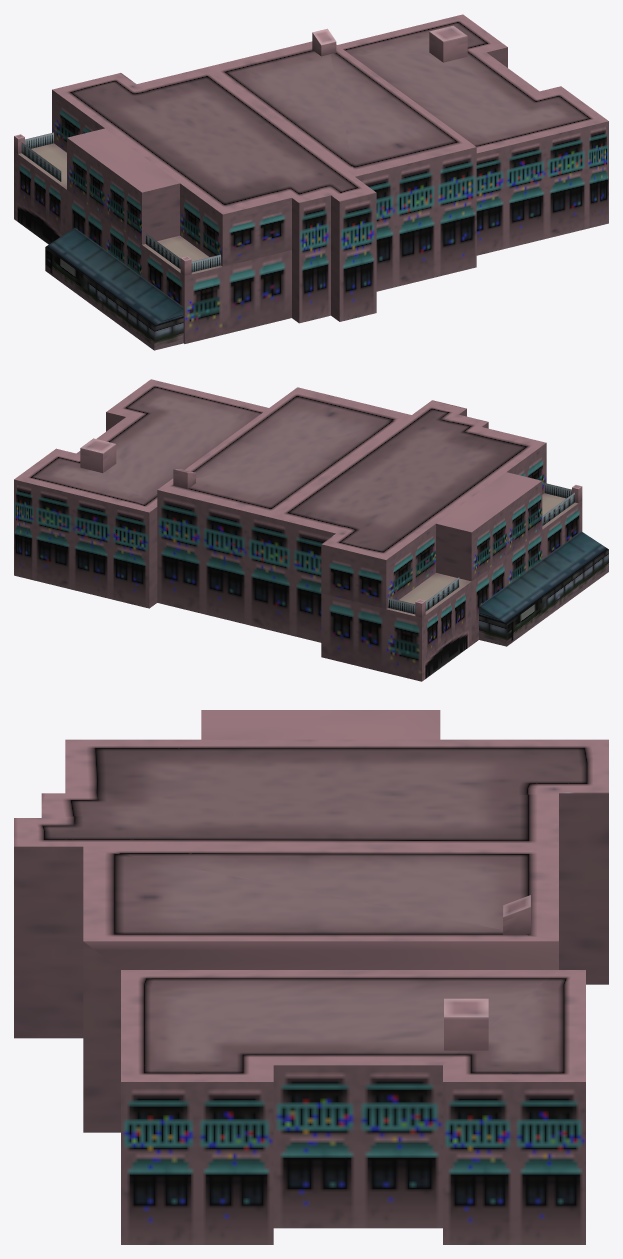
The model's file is ResidentialLowRise2.fbx.
The picture shows the model from 3 angles, top to bottom: view 1: azimuth 30°, elevation 25°; view 2: azimuth 150°, elevation 25°; view 3: azimuth 270°, elevation 25°; orthographic projection. The views are drawn at different scales.
Parts seen in each view (by area): view 1: ResidentialLowRise2; view 2: ResidentialLowRise2; view 3: ResidentialLowRise2.
Boxes of the visible parts, bbox=[...] form: ResidentialLowRise2: bbox=[14, 14, 608, 350]; ResidentialLowRise2: bbox=[14, 379, 608, 681]; ResidentialLowRise2: bbox=[14, 710, 608, 1244].
Size of the model in its own units: 14.06 by 3.93 by 9.65.
